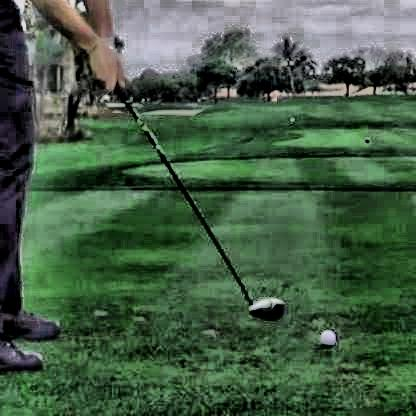golfball: (314, 326, 334, 346)
